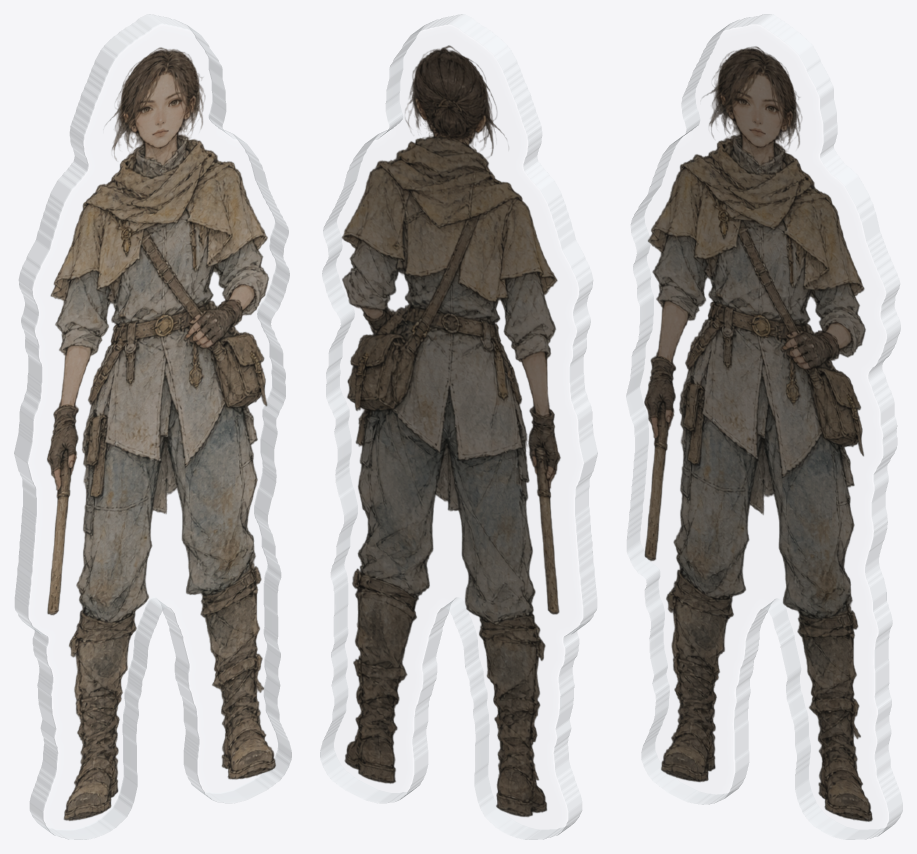
File: ines-v64.glb
The picture shows the model from 3 angles, left to right: view 1: azimuth 30°, elevation 25°; view 2: azimuth 150°, elevation 25°; view 3: azimuth 330°, elevation 25°; orthographic projection.
Parts seen in each view (by area): view 1: ines_standee_v64; view 2: ines_standee_v64; view 3: ines_standee_v64.
Part boxes in pixels (<box>): ines_standee_v64: <box>14,14,291,839</box>; ines_standee_v64: <box>320,14,597,839</box>; ines_standee_v64: <box>626,14,902,839</box>.
Bounding box in the file's own units: 0.4215 × 1.21 × 0.04.
3 materials, 2 textured.
